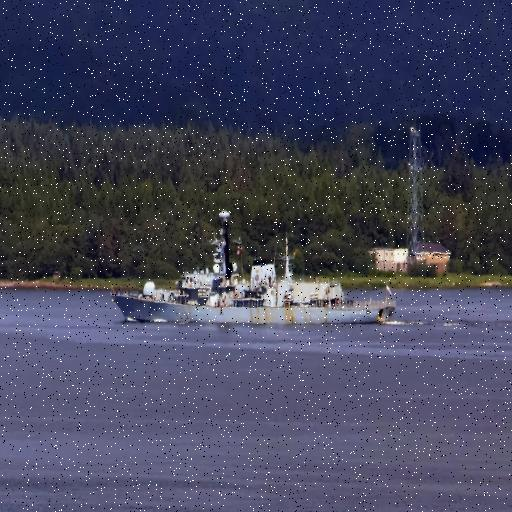Fragata: (111, 207, 399, 330)
